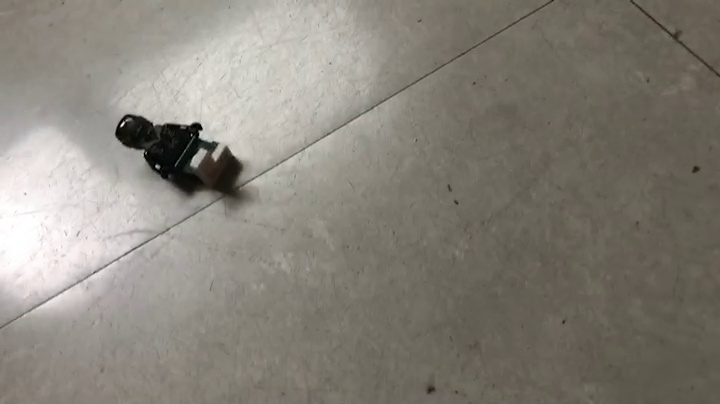people: (115, 113, 242, 194)
